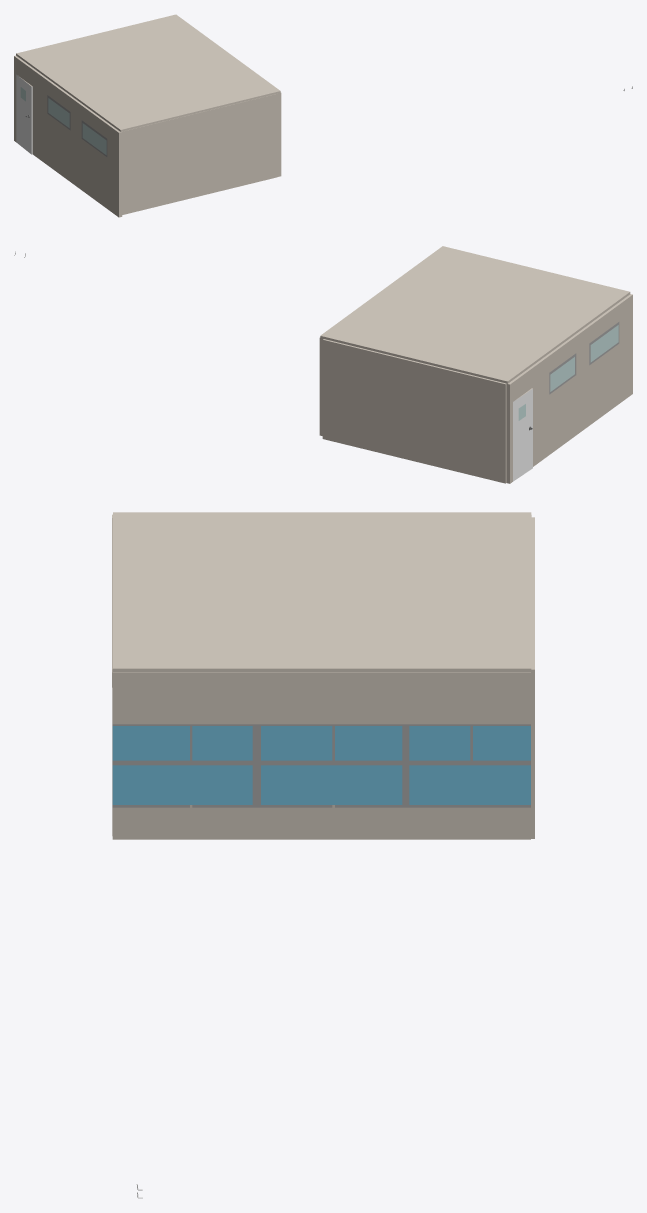
File: EcenarioProyectoSalonSolo.fbx
3 renders of one model, top to bottom at view 1: azimuth 30°, elevation 25°; view 2: azimuth 150°, elevation 25°; view 3: azimuth 270°, elevation 25°, orthographic. The views are drawn at different scales.
Parts seen in each view (by area): view 1: Cube.021, Cube, Cube.022, Cube.019; view 2: Cube.021, Cube.016, Cube.022, Cube.019; view 3: Cube.019, Cube.021, Cube.016.
Boxes of the visible parts, x1,y1,x2,y2 form: Cube.021: [16, 14, 280, 131]; Cube: [122, 93, 277, 214]; Cube.022: [14, 55, 122, 217]; Cube.019: [277, 92, 281, 176]; Cube.021: [320, 246, 630, 383]; Cube.016: [322, 339, 506, 483]; Cube.022: [506, 294, 632, 483]; Cube.019: [319, 337, 322, 435]; Cube.019: [112, 668, 530, 839]; Cube.021: [113, 512, 531, 675]; Cube.016: [531, 517, 534, 838].
Size of the model in its own units: 8348 by 1373 by 2921.
